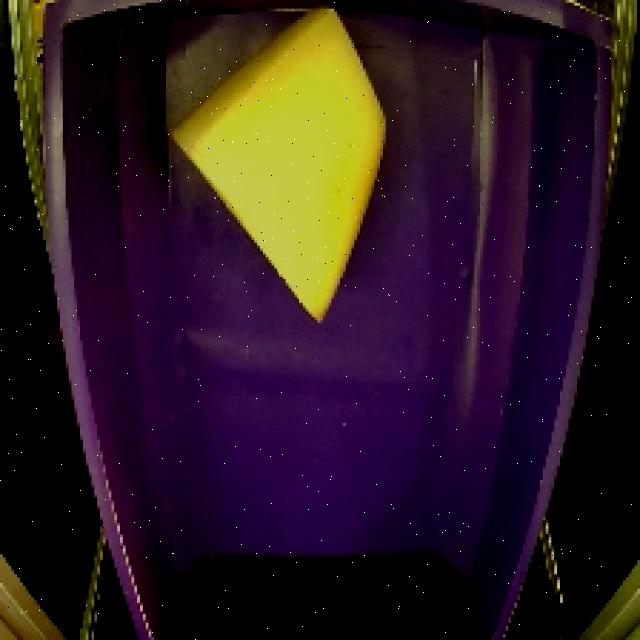potato: (159, 3, 407, 332)
